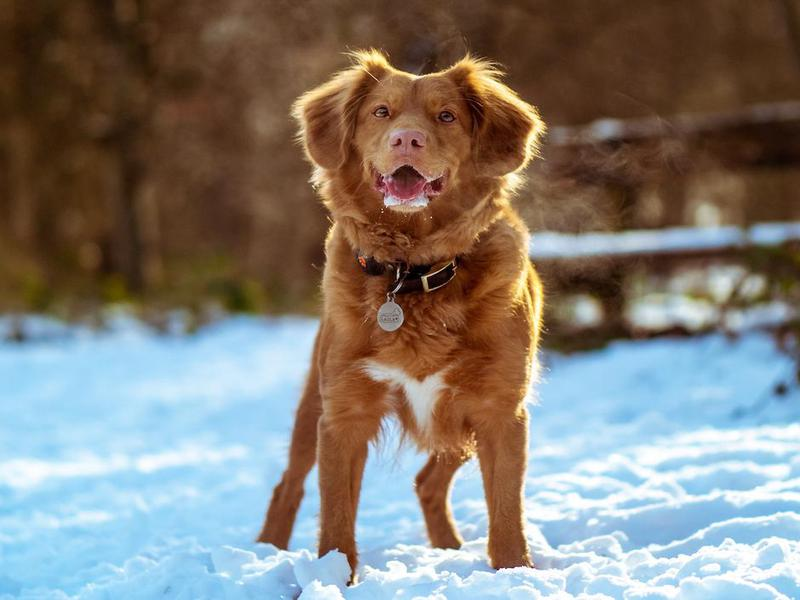dog_stand: (253, 44, 549, 600)
